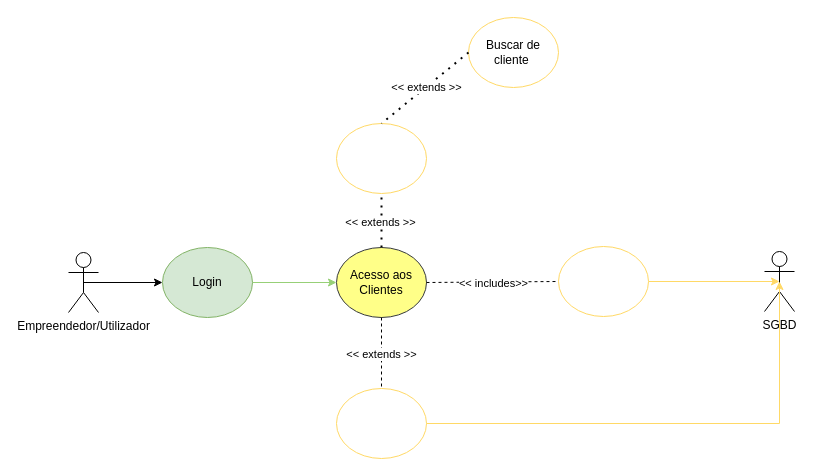
This 814x476 diagram has some shape labels left out. The shapes that lost their labels are listed below. From the top down, each one's centre as x and y in pixels, then its label:
the point at 381,158: Lista de Clientes
the point at 603,281: Cadastrar cliente
the point at 381,423: Editar Clientes
